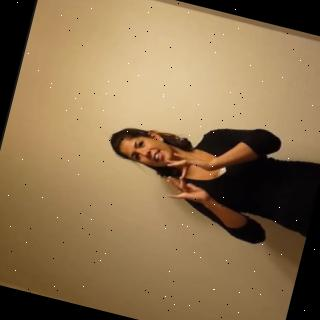Internet: (94, 95, 320, 254)
